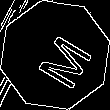M_NW: (21, 22, 89, 88)
